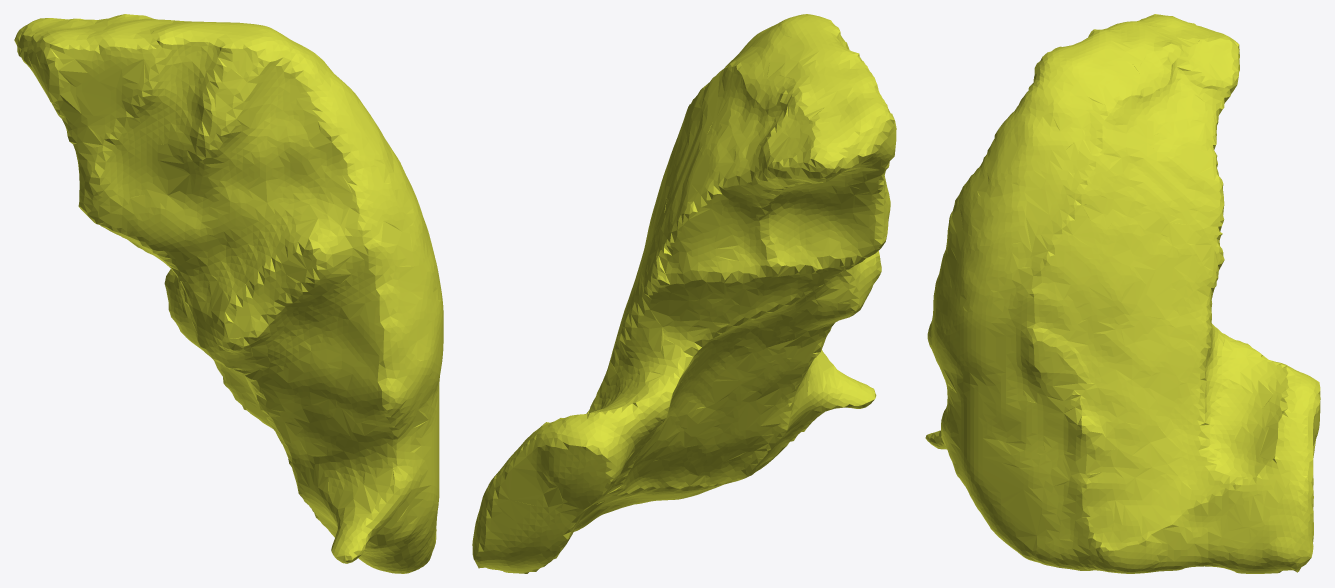
Rendered from Model_234_RH__Putamen_(Pu).obj.
3 renders of one model, left to right at view 1: azimuth 30°, elevation 25°; view 2: azimuth 150°, elevation 25°; view 3: azimuth 270°, elevation 25°, orthographic. The views are drawn at different scales.
Bounding box in the file's own units: 5.11 × 7.31 × 5.82.
